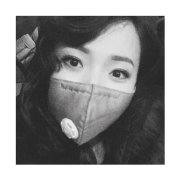face_mask: (45, 24, 137, 144)
